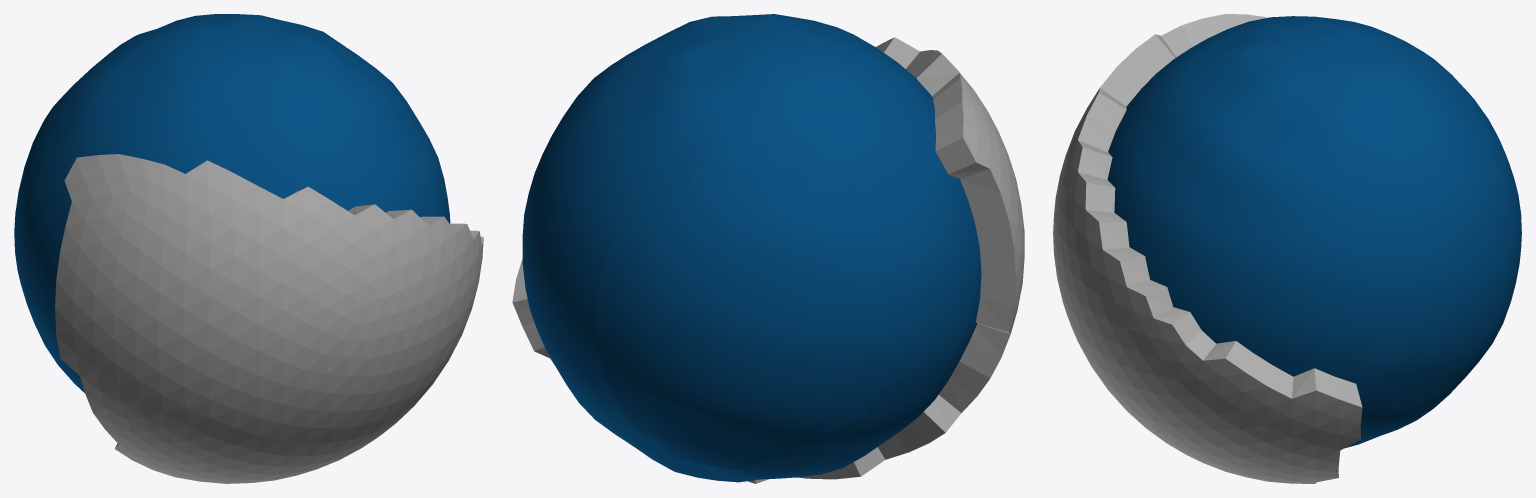
The model's file is Ocean and Land.fbx.
The picture shows the model from 3 angles, left to right: view 1: azimuth 30°, elevation 25°; view 2: azimuth 150°, elevation 25°; view 3: azimuth 270°, elevation 25°; orthographic projection. The views are drawn at different scales.
Visible parts, largest first — view 1: Land, Ocean; view 2: Ocean, Land; view 3: Ocean, Land.
Boxes of the visible parts, x1,y1,x2,y2 form: Land: [55, 154, 483, 483]; Ocean: [14, 14, 450, 393]; Ocean: [522, 14, 981, 482]; Land: [512, 37, 1024, 483]; Ocean: [1107, 16, 1521, 448]; Land: [1053, 14, 1362, 483].
Size of the model in its own units: 22.1 by 21.26 by 21.34.
